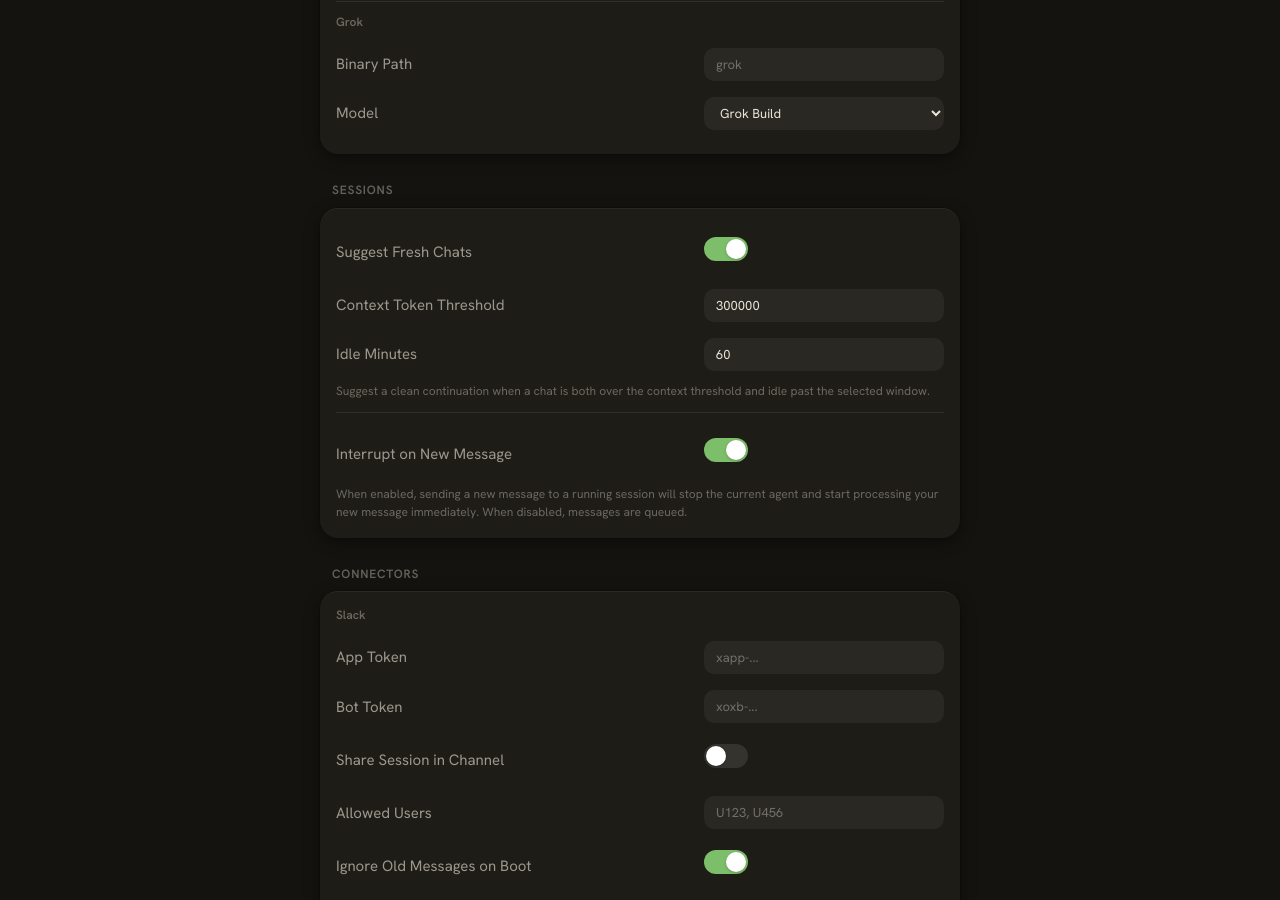
Test: what the page says about the write › says what the gateway said when the write is refused, and never says saved
Click the switch named "Interrupt on new message": click(726, 450) [704,434,748,468]
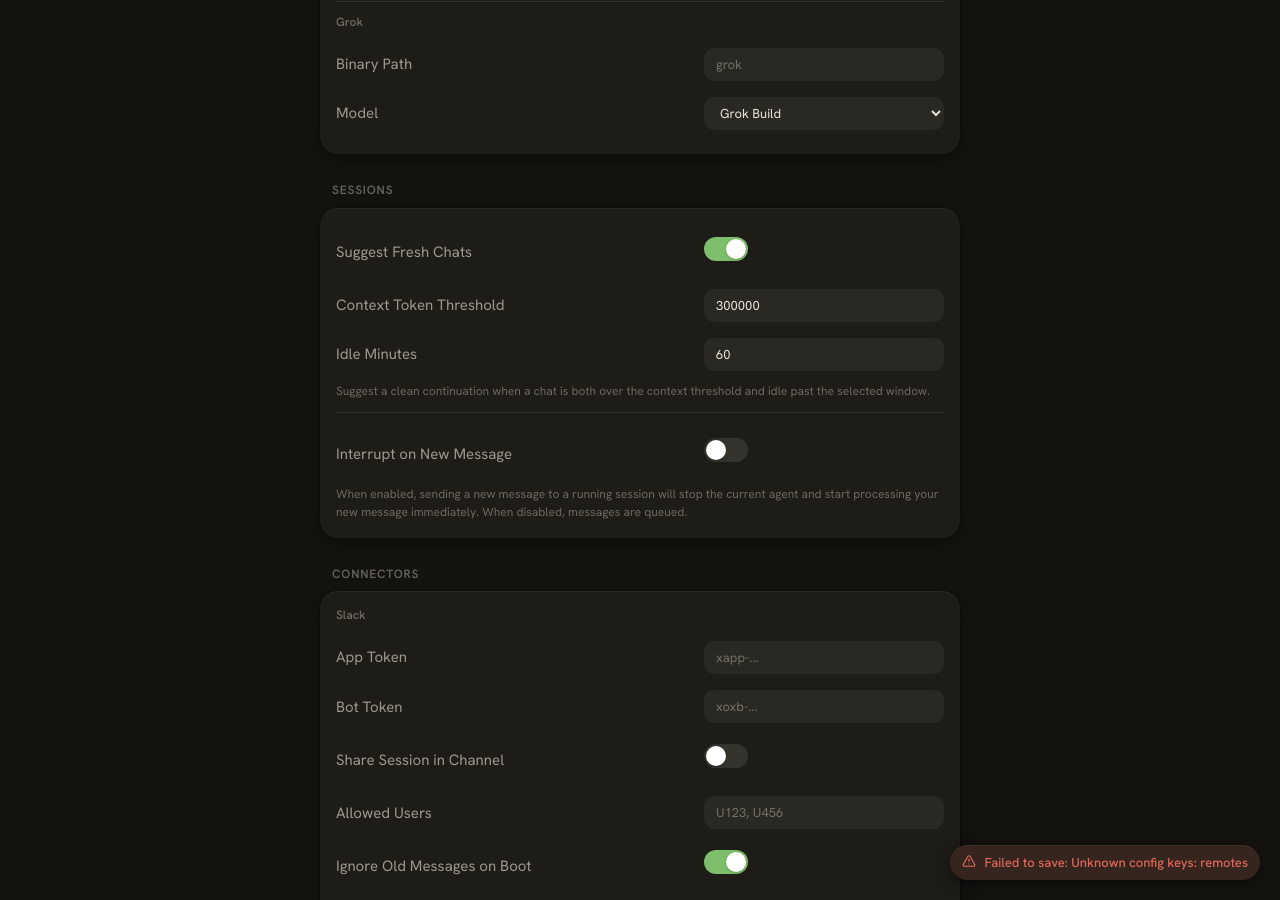
Check: the text "Failed to save: Unknown config keys: remotes" is shown, box [984,853,1248,872]
